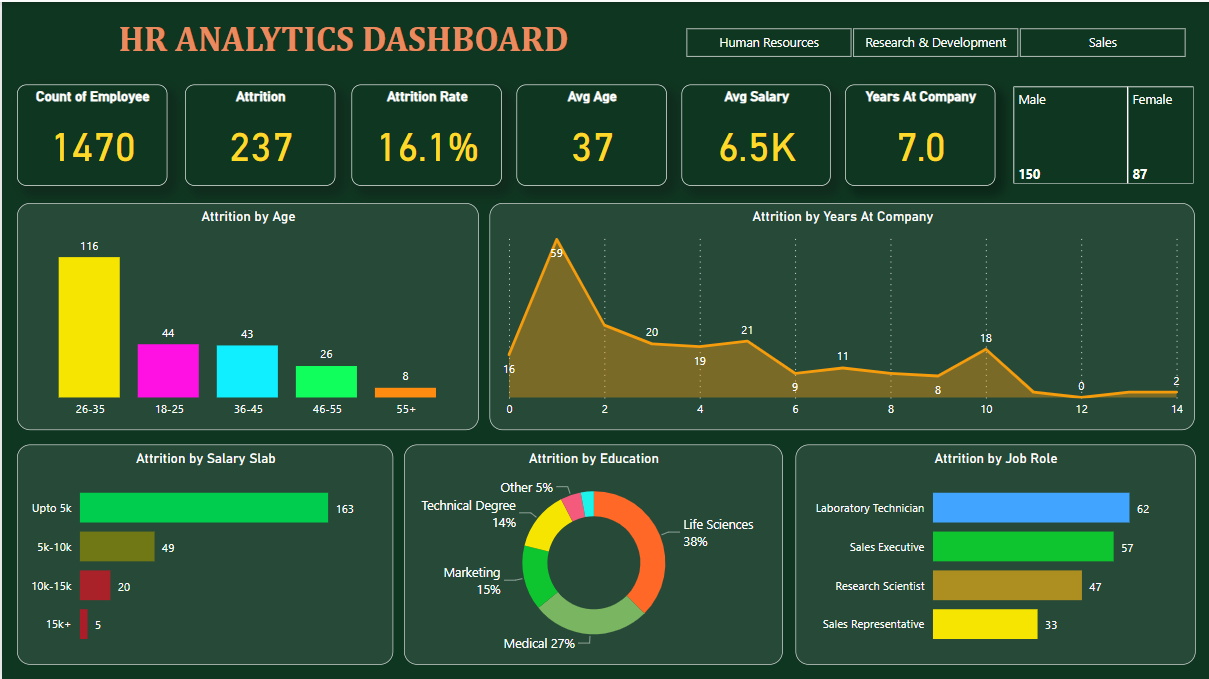

This screenshot's page, from the dashboard's own definition file:
{"tool":"powerbi","page":{"name":"Page 1","canvas":[1280,720],"ordinal":0},"visuals":[{"type":"card","title":"Count of Employee","fields":{"Values":["CountNonNull(HR_Analytics.EmpID)"]},"box":[15.5,88.1,159.5,107.1],"z":0},{"type":"card","title":"Attrition","fields":{"Values":["Sum(HR_Analytics.AttritionCount)"]},"box":[194,88.1,159.5,107.1],"z":1000},{"type":"card","title":"Attrition Rate","fields":{"Values":["HR_Analytics.AttritionRate"]},"box":[370.1,88.1,159.5,107.1],"z":2000},{"type":"card","title":"Avg Age","fields":{"Values":["Avg(HR_Analytics.Age)"]},"box":[545.1,88.1,159.5,107.1],"z":3000},{"type":"card","title":"Avg Salary","fields":{"Values":["Avg(HR_Analytics.MonthlyIncome)"]},"box":[720,88.1,158.3,107.1],"z":4000},{"type":"card","title":"Years At Company","fields":{"Values":["Avg(HR_Analytics.YearsAtCompany)"]},"box":[893.8,88.1,159.5,107.1],"z":5000},{"type":"donutChart","title":"Attrition by Education","fields":{"Category":["HR_Analytics.EducationField"],"Y":["Sum(HR_Analytics.AttritionCount)"]},"box":[426,468.9,401.1,233.3],"z":6000},{"type":"clusteredColumnChart","title":"Attrition by Age","fields":{"Category":["HR_Analytics.AgeGroup"],"Y":["Sum(HR_Analytics.AttritionCount)"]},"box":[15.5,213,489.1,240.4],"z":7000},{"type":"barChart","title":"Attrition by Salary Slab","fields":{"Category":["HR_Analytics.SalarySlab"],"Y":["Sum(HR_Analytics.AttritionCount)"]},"box":[15.5,468.9,398.7,233.3],"z":8000},{"type":"barChart","title":"Attrition by Job Role","fields":{"Y":["Sum(HR_Analytics.AttritionCount)"],"Category":["HR_Analytics.JobRole"]},"box":[840.2,468.9,423.7,233.3],"z":9000},{"type":"areaChart","title":"Attrition by Years At Company","fields":{"Y":["Sum(HR_Analytics.AttritionCount)"],"Category":["HR_Analytics.YearsAtCompany"]},"box":[516.5,213,747.4,240.4],"z":10000},{"type":"treemap","title":"Attrition by Gender","fields":{"Group":["HR_Analytics.Gender"],"Values":["Sum(HR_Analytics.AttritionCount)"]},"box":[1066.3,84.5,201.1,113.1],"z":11000},{"type":"slicer","fields":{"Values":["HR_Analytics.Department"]},"box":[698.6,20.2,578.4,44],"z":12000},{"type":"textbox","box":[19,11.9,685.5,61.9],"z":13000}]}

Visuals, with their boxes in screenshot pixels (x1, y1, x2, y2), scaled from the page's 1280x720 canvas onto the 1209x679 screenshot:
"Count of Employee" card: 15/83/165/184
"Attrition" card: 183/83/334/184
"Attrition Rate" card: 350/83/500/184
"Avg Age" card: 515/83/666/184
"Avg Salary" card: 680/83/830/184
"Years At Company" card: 844/83/995/184
"Attrition by Education" donutChart: 402/442/781/662
"Attrition by Age" clusteredColumnChart: 15/201/477/428
"Attrition by Salary Slab" barChart: 15/442/391/662
"Attrition by Job Role" barChart: 794/442/1194/662
"Attrition by Years At Company" areaChart: 488/201/1194/428
"Attrition by Gender" treemap: 1007/80/1197/186
slicer - HR_Analytics.Department: 660/19/1206/61
textbox: 18/11/665/70
